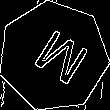M_SW: (21, 23, 86, 90)
